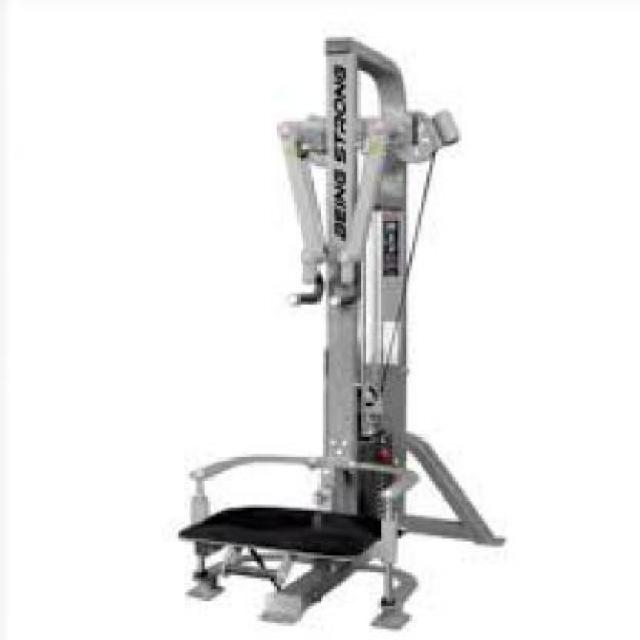lateral raises machine: (174, 30, 506, 628)
